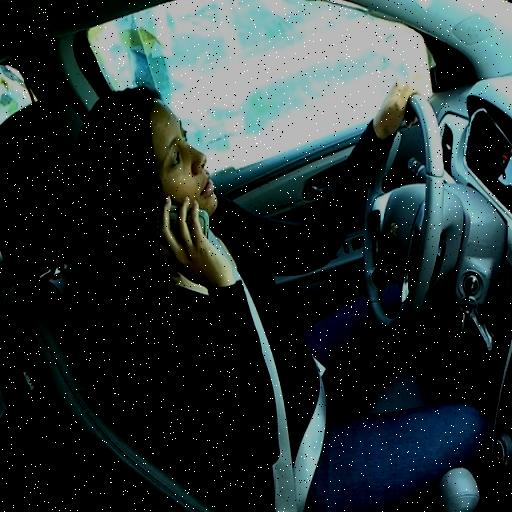talking_phone: (86, 98, 434, 420)
